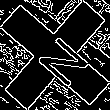N_NW: (23, 23, 87, 87)
